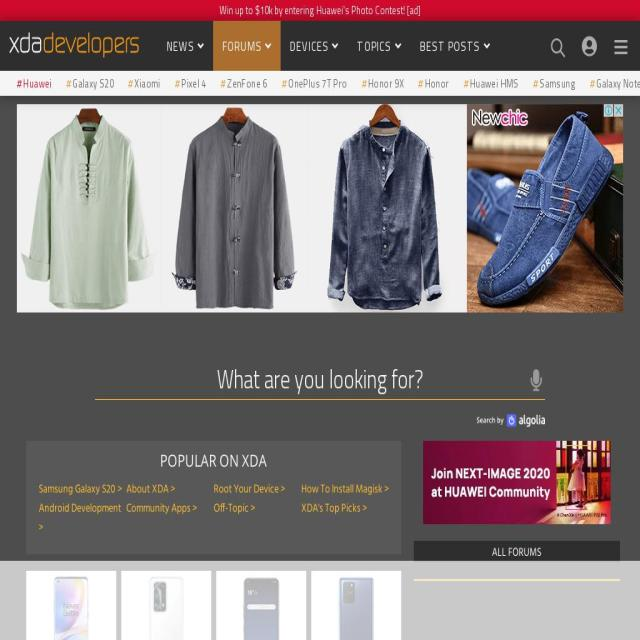button: (26, 571, 116, 640), (121, 571, 211, 640), (216, 571, 306, 640), (311, 571, 401, 640), (413, 541, 620, 562), (9, 33, 139, 59), (277, 75, 351, 92), (458, 75, 522, 92), (61, 75, 118, 92), (216, 75, 271, 92), (585, 75, 640, 92), (528, 75, 580, 92), (357, 75, 408, 92), (12, 75, 56, 92), (124, 75, 164, 92), (170, 75, 210, 92), (414, 75, 453, 92)
field: (94, 362, 545, 400)
heading: (38, 449, 389, 472)
iframe: (17, 104, 623, 313), (422, 582, 610, 640)
image: (422, 441, 610, 524), (9, 32, 139, 58), (242, 576, 280, 640), (337, 576, 374, 640), (53, 576, 88, 640), (148, 576, 183, 640), (476, 414, 545, 428), (542, 38, 574, 58), (580, 35, 599, 57), (394, 42, 402, 50), (197, 42, 204, 50), (265, 42, 272, 50), (332, 42, 339, 50), (483, 42, 490, 50), (614, 46, 628, 48)
link: (38, 499, 121, 538), (220, 2, 420, 18), (301, 480, 388, 499), (38, 480, 122, 499), (213, 480, 285, 499), (126, 499, 197, 518), (301, 499, 367, 518), (126, 480, 175, 499), (213, 499, 255, 518)
text: (92, 565, 548, 640), (420, 37, 480, 55), (222, 37, 262, 55), (290, 37, 329, 55), (357, 37, 392, 55), (167, 37, 194, 55)
